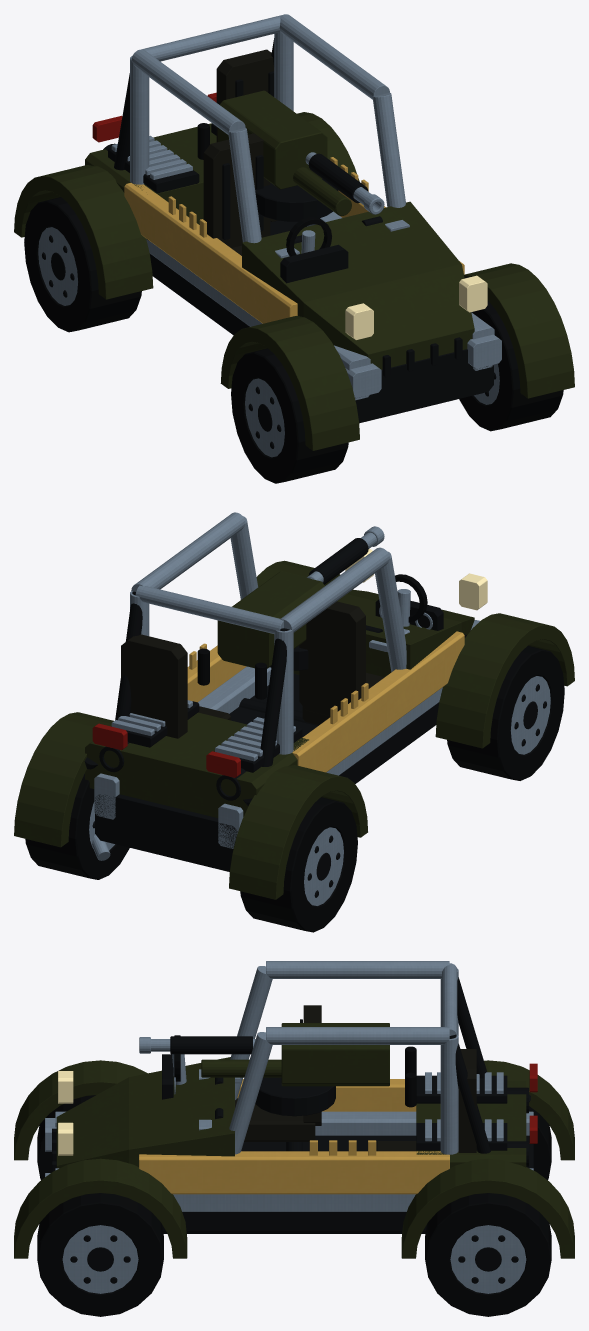
Rendered from scout-lod0.glb.
3 views of the same model, one above another, from view 1: azimuth 30°, elevation 25°; view 2: azimuth 150°, elevation 25°; view 3: azimuth 270°, elevation 25° (orthographic). The views are drawn at different scales.
Parts seen in each view (by area): view 1: body, turret, wheel_1, wheel_0, wheel_3; view 2: body, wheel_0, wheel_1, turret, wheel_2; view 3: body, wheel_2, wheel_3, turret, wheel_0, wheel_1.
Part boxes in pixels (left/top/right/bottom): body: left=14, top=14, right=574, bottom=450; turret: left=197, top=90, right=384, bottom=221; wheel_1: left=231, top=348, right=348, bottom=483; wheel_0: left=24, top=197, right=141, bottom=332; wheel_3: left=459, top=300, right=563, bottom=431; body: left=14, top=512, right=574, bottom=899; wheel_0: left=240, top=797, right=357, bottom=932; wheel_1: left=447, top=646, right=564, bottom=780; turret: left=197, top=526, right=384, bottom=699; wheel_2: left=25, top=773, right=129, bottom=879; body: left=14, top=961, right=574, bottom=1258; wheel_2: left=425, top=1193, right=551, bottom=1316; wheel_3: left=37, top=1193, right=163, bottom=1316; turret: left=139, top=1023, right=416, bottom=1116; wheel_0: left=529, top=1106, right=551, bottom=1179; wheel_1: left=37, top=1095, right=95, bottom=1179.
Size of the model in its own units: 1.12 by 1.12 by 2.17.
Materials: 8 (7 with a texture image).
